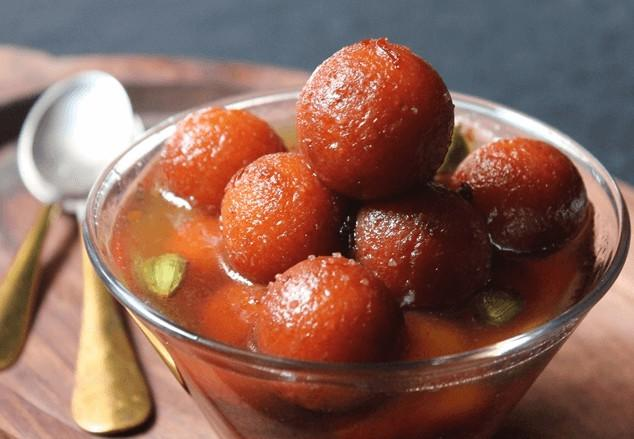GulabJamun: (297, 37, 455, 199), (249, 253, 407, 413), (220, 154, 345, 289), (346, 196, 492, 310), (453, 139, 587, 258), (160, 106, 289, 217), (163, 217, 238, 289), (197, 283, 269, 350)
